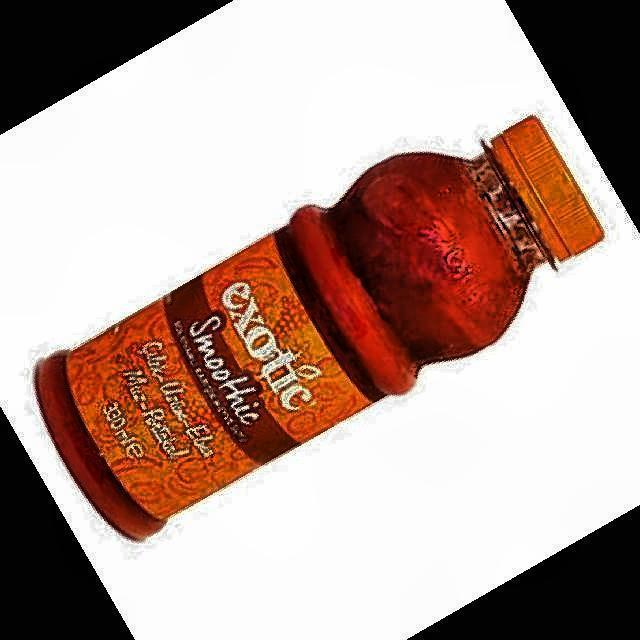plastic: (35, 118, 602, 539)
